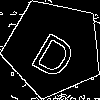D: (28, 23, 84, 81)
